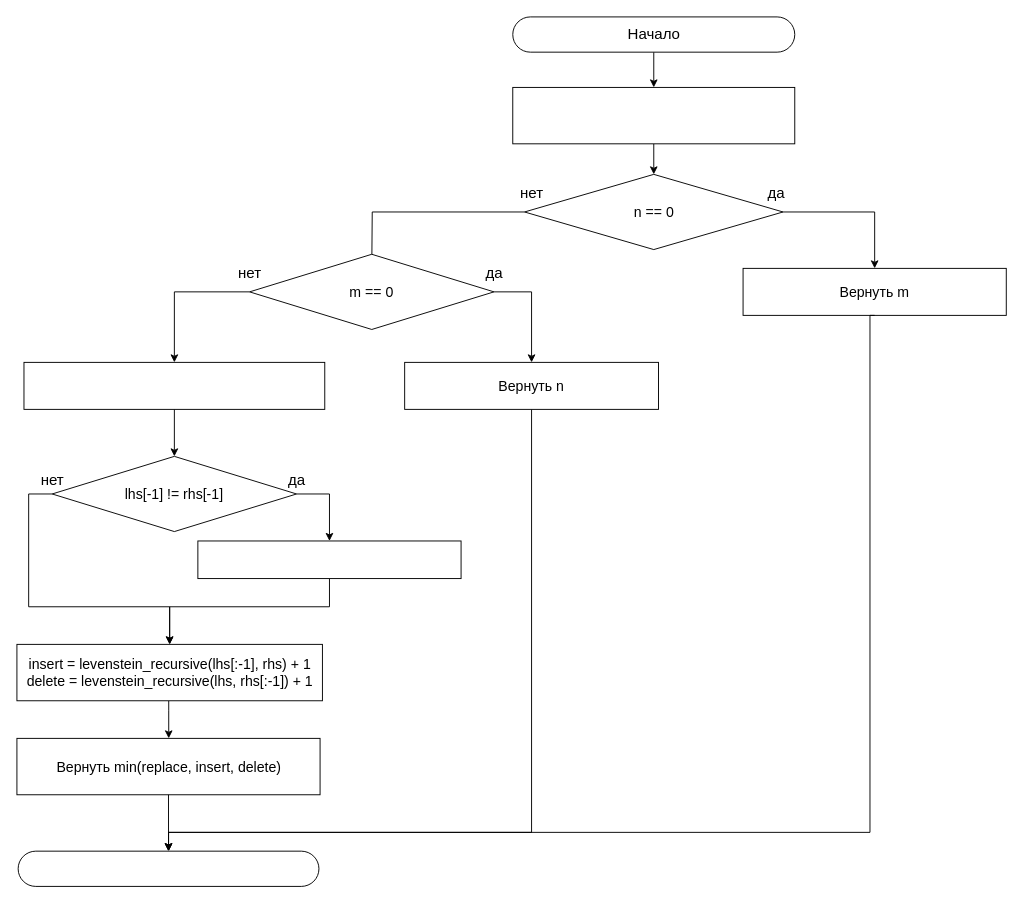
Some shapes in this 1023 by 902 pixel diagram are drawn without their labels. Each missing label, with the centre of its shape:
"n = len(lhs) m = len(rhs)" belongs at (653,115).
"replace += 1" belongs at (329,559).
"replace = levenstein_recursive (lhs[:-1], rhs[:-1])" belongs at (174,385).
"Конец" belongs at (168,868).
